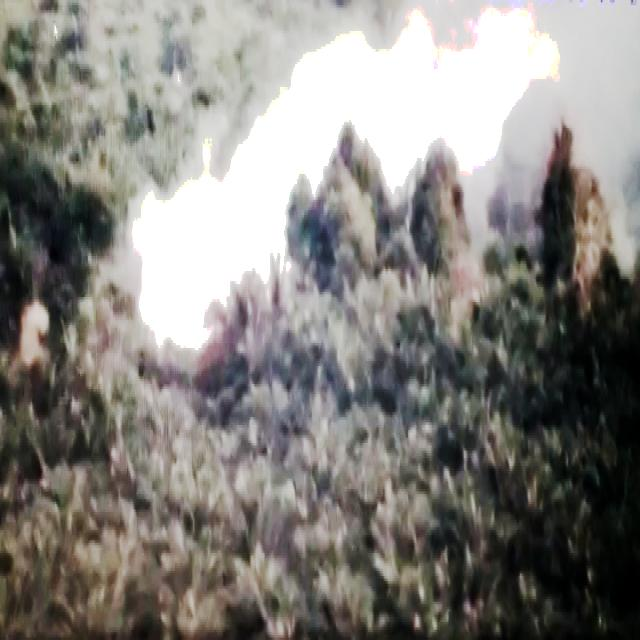asap: (120, 1, 640, 375)
